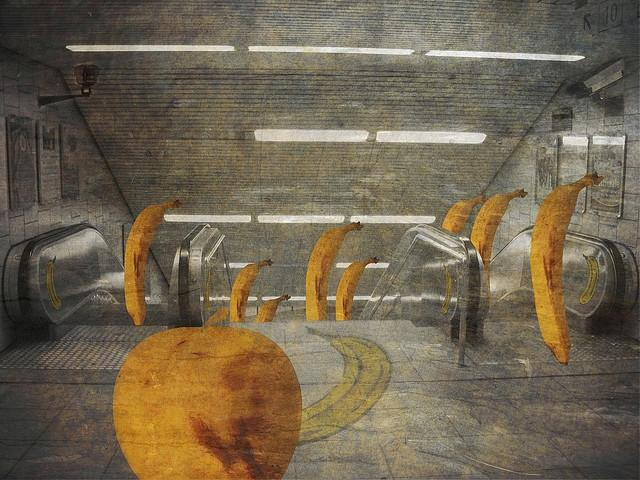banana: (530, 171, 604, 366), (296, 326, 394, 447), (124, 200, 183, 327), (471, 189, 528, 310), (306, 221, 364, 321), (230, 258, 274, 323), (336, 256, 380, 320), (441, 195, 488, 235), (255, 294, 291, 323), (580, 254, 598, 304), (46, 254, 62, 310), (442, 263, 452, 314), (206, 271, 212, 316)
